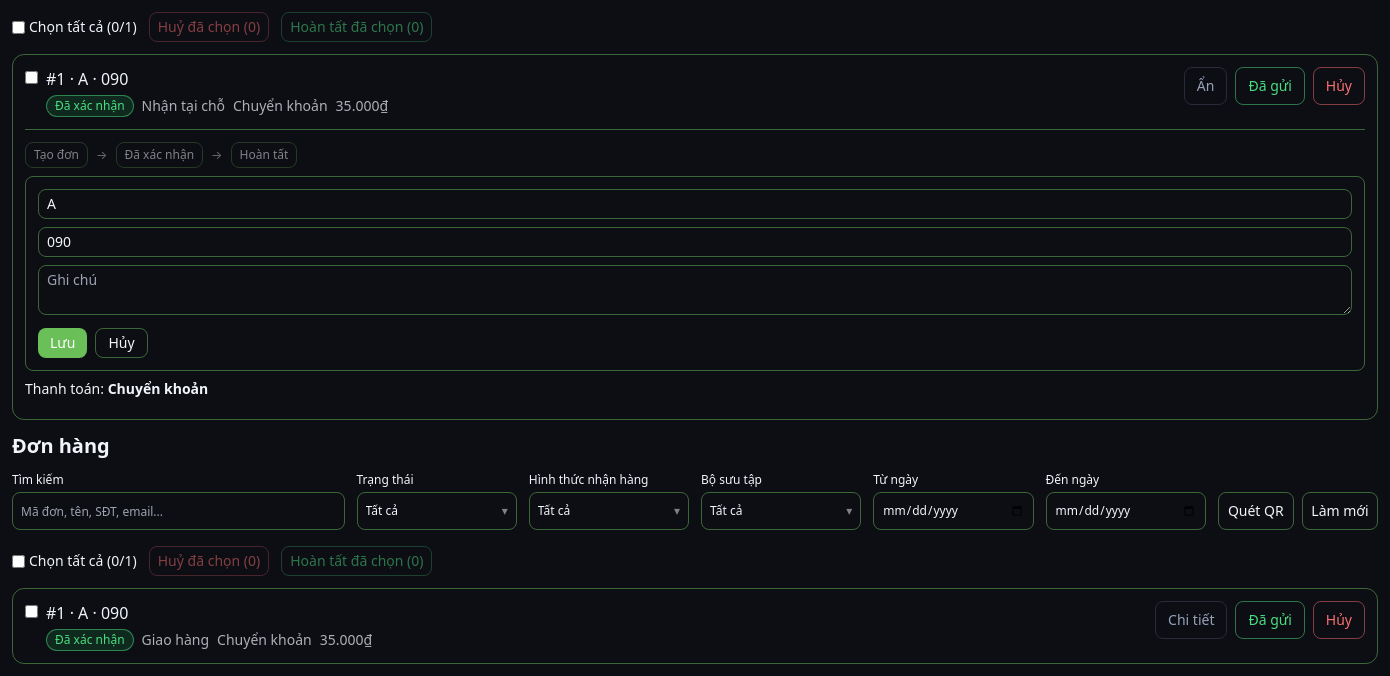
Test: AdminOrders - semantic status/action styling (Admin UI plan) › shows the address picker in the edit form for a ship order
The image size is (1390, 676).
(page scrolled)
Click the button "Chi tiết": point(1191, 620) [1155,601,1228,639]
(page scrolled)
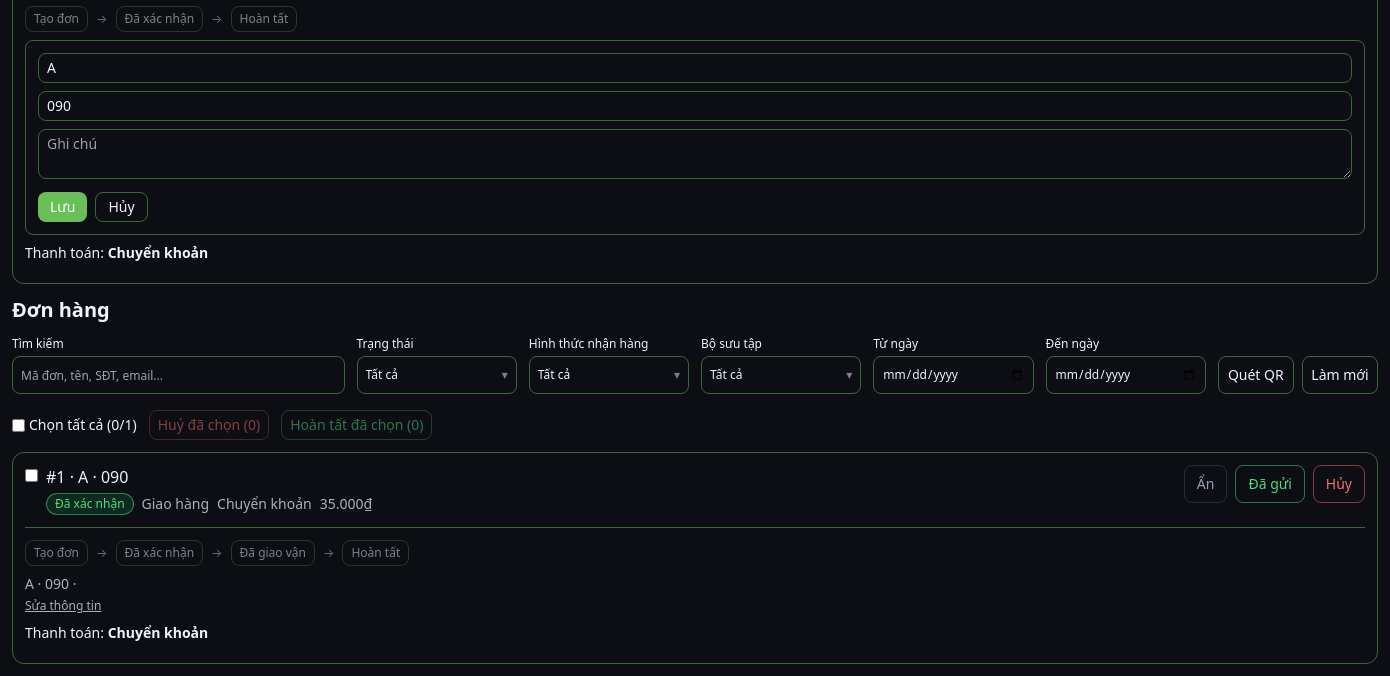
Click the button "Sửa thông tin": point(63, 606) [25,598,101,614]
(page scrolled)
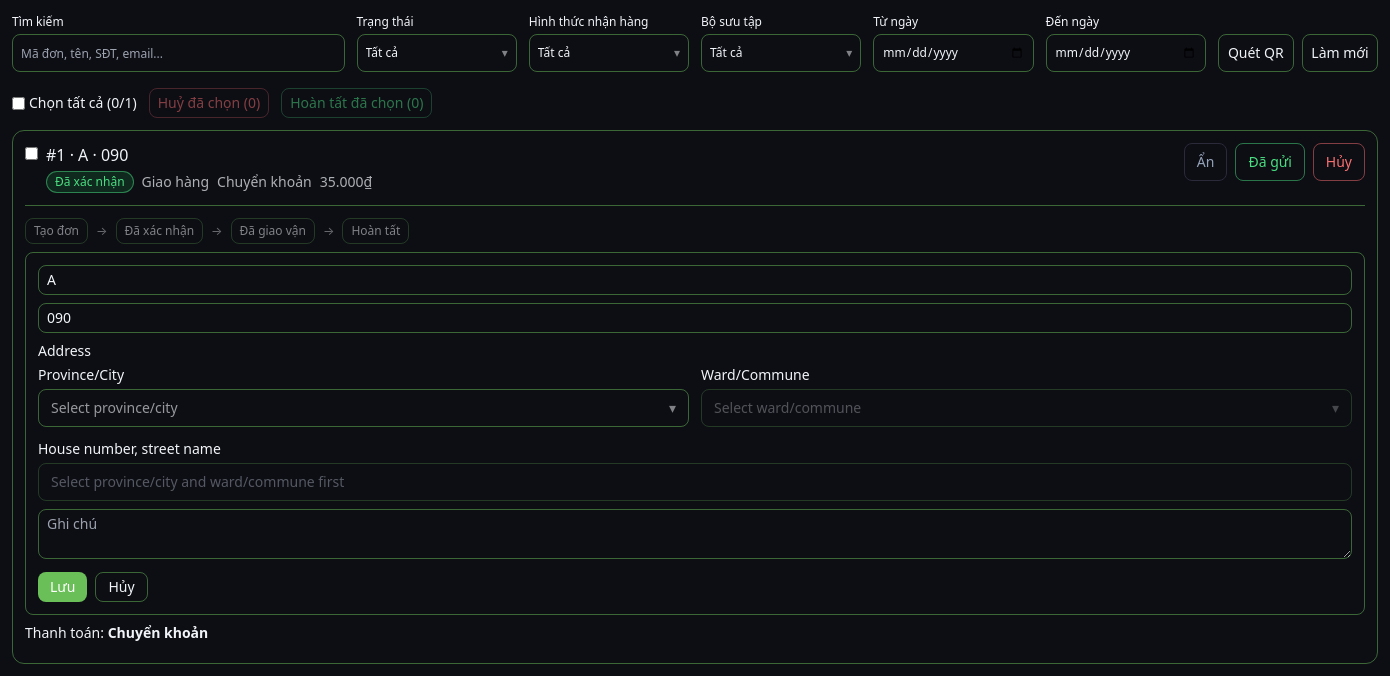
expect the button with aria-label "Province/City" is shown: met, box [38,389,689,427]
